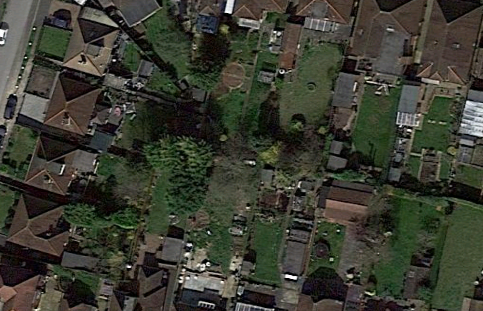tree: (155, 167, 210, 223), (188, 55, 231, 96)
